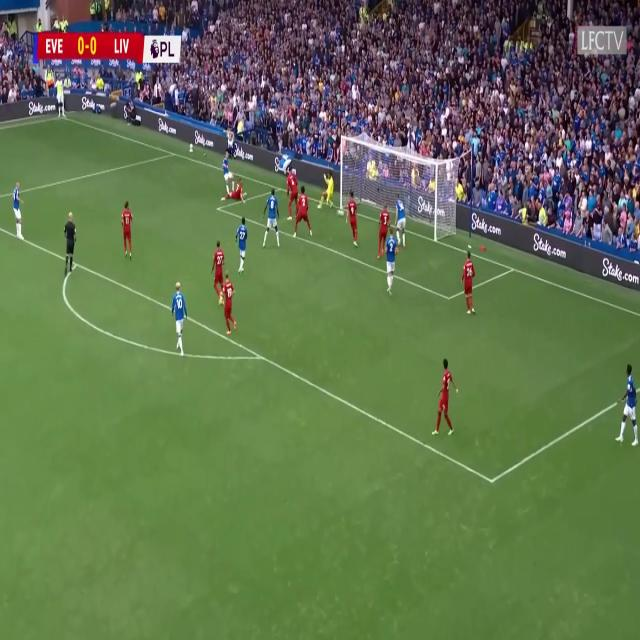ball: (338, 207, 345, 216)
team1: (432, 357, 460, 438), (459, 246, 478, 316), (220, 270, 239, 338), (292, 184, 314, 241), (210, 239, 228, 304), (345, 188, 361, 248), (120, 198, 135, 260), (376, 200, 391, 258), (286, 167, 300, 220), (221, 173, 246, 201)
team2: (615, 359, 639, 449), (170, 279, 190, 358), (383, 225, 400, 296), (262, 187, 281, 248), (234, 214, 250, 276), (12, 179, 27, 241), (395, 190, 407, 249), (221, 148, 235, 196)
